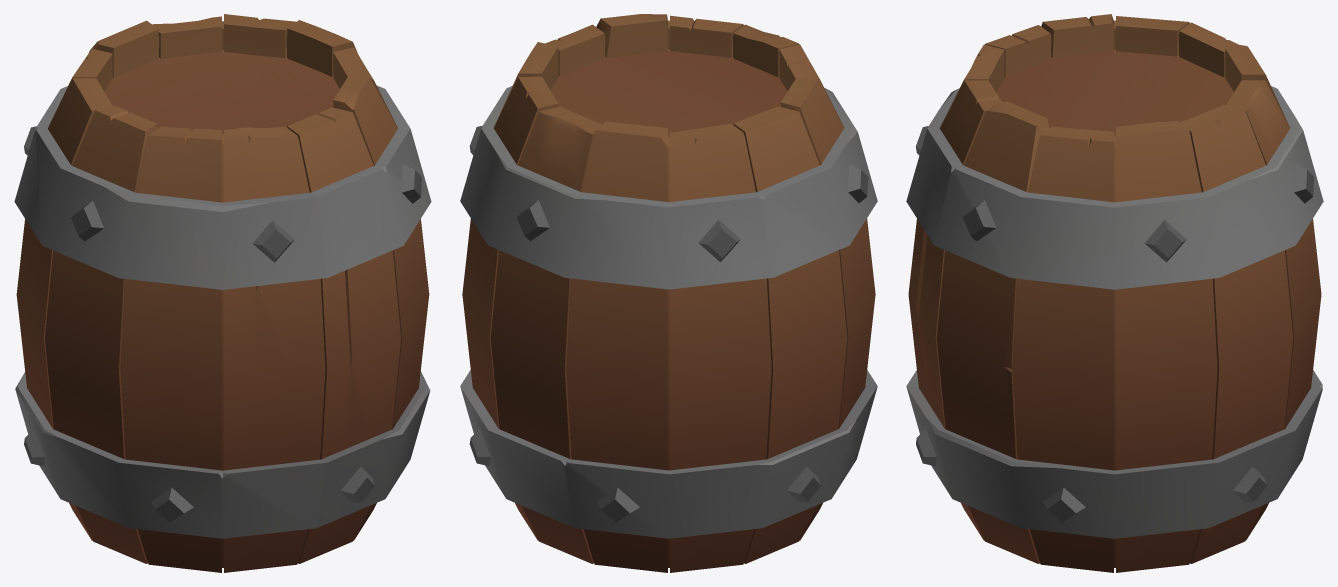
Rendered from obj_barril.fbx.
3 renders of one model, left to right at view 1: azimuth 30°, elevation 25°; view 2: azimuth 150°, elevation 25°; view 3: azimuth 270°, elevation 25°, orthographic.
Visible parts, largest first — view 1: Cone.001; view 2: Cone.001; view 3: Cone.001.
Part boxes in pixels (<box>): Cone.001: <box>14,14,431,572</box>; Cone.001: <box>460,14,877,572</box>; Cone.001: <box>906,14,1323,572</box>.
Bounding box in the file's own units: 265 × 306 × 265.
